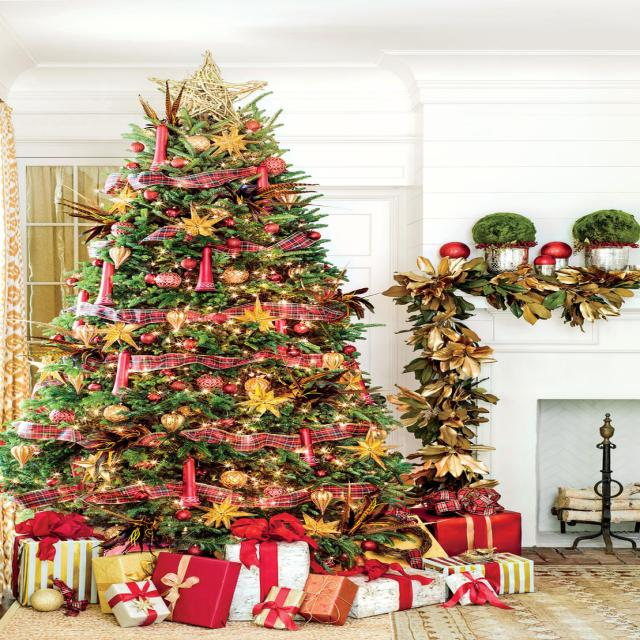Christmas-tree: (37, 47, 405, 527)
